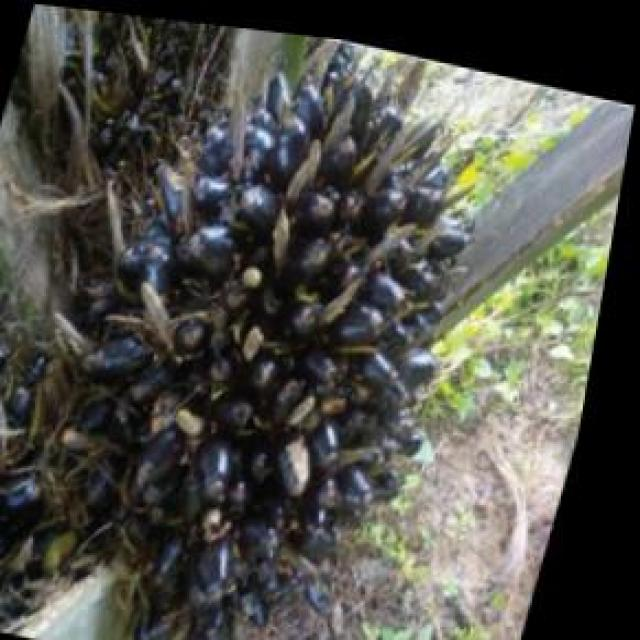Unripe: (0, 19, 519, 640), (0, 318, 97, 631)
